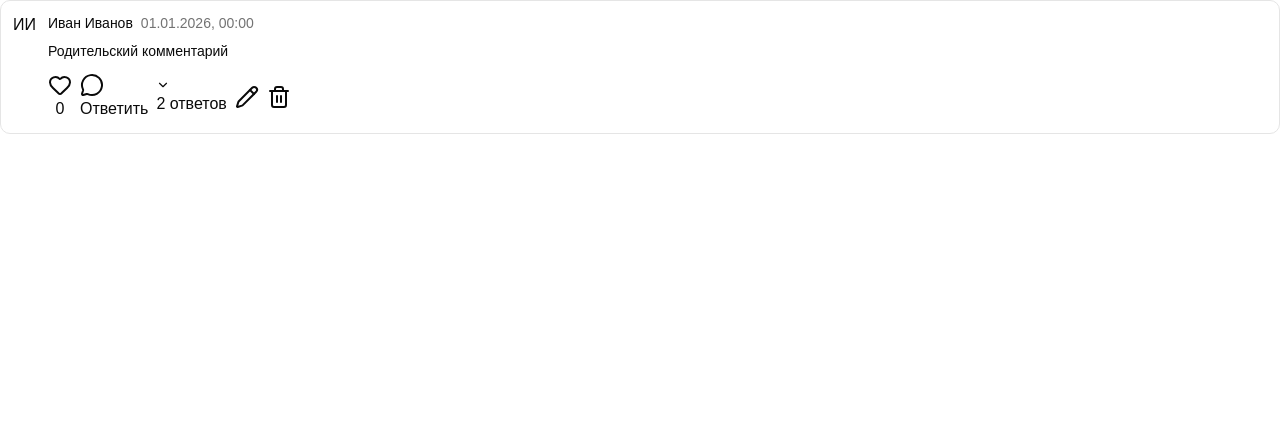
Test case: CommentThreadItem › корневой комментарий › догружает следующие ответы
Click the button with aria-label "Показать ответы".
click(192, 97)  # box [156, 78, 227, 116]
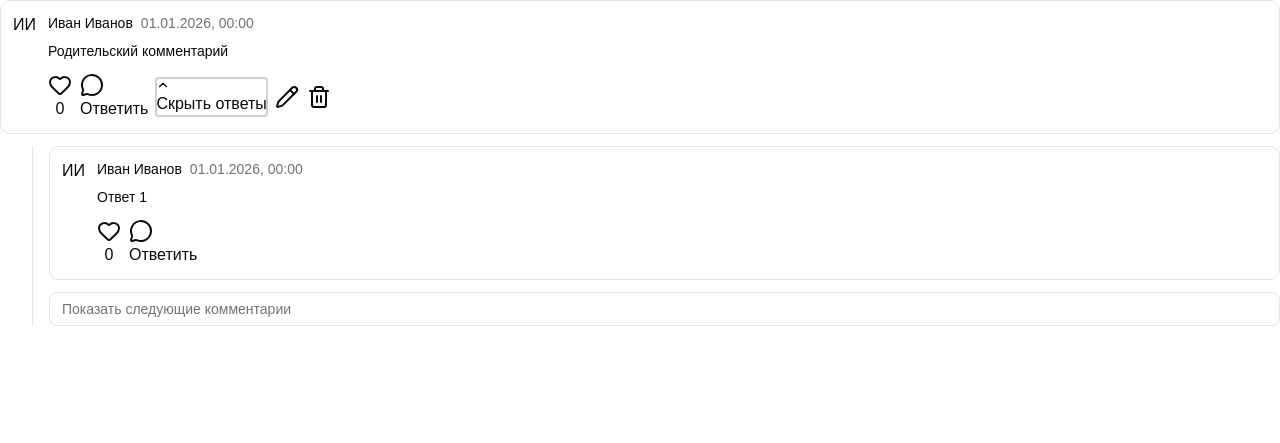
expect the text "Ответ 1" is shown: met, box [97, 189, 147, 205]
Click the button "Показать следующие комментарии".
click(177, 309)  # box [49, 292, 1279, 326]
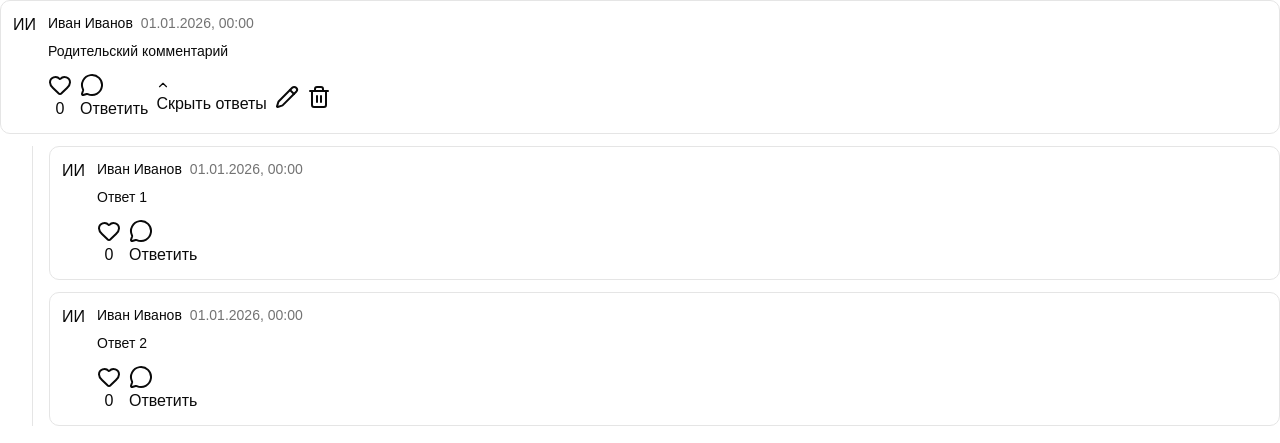
expect the text "Ответ 2" is shown: met, box [97, 335, 147, 351]
